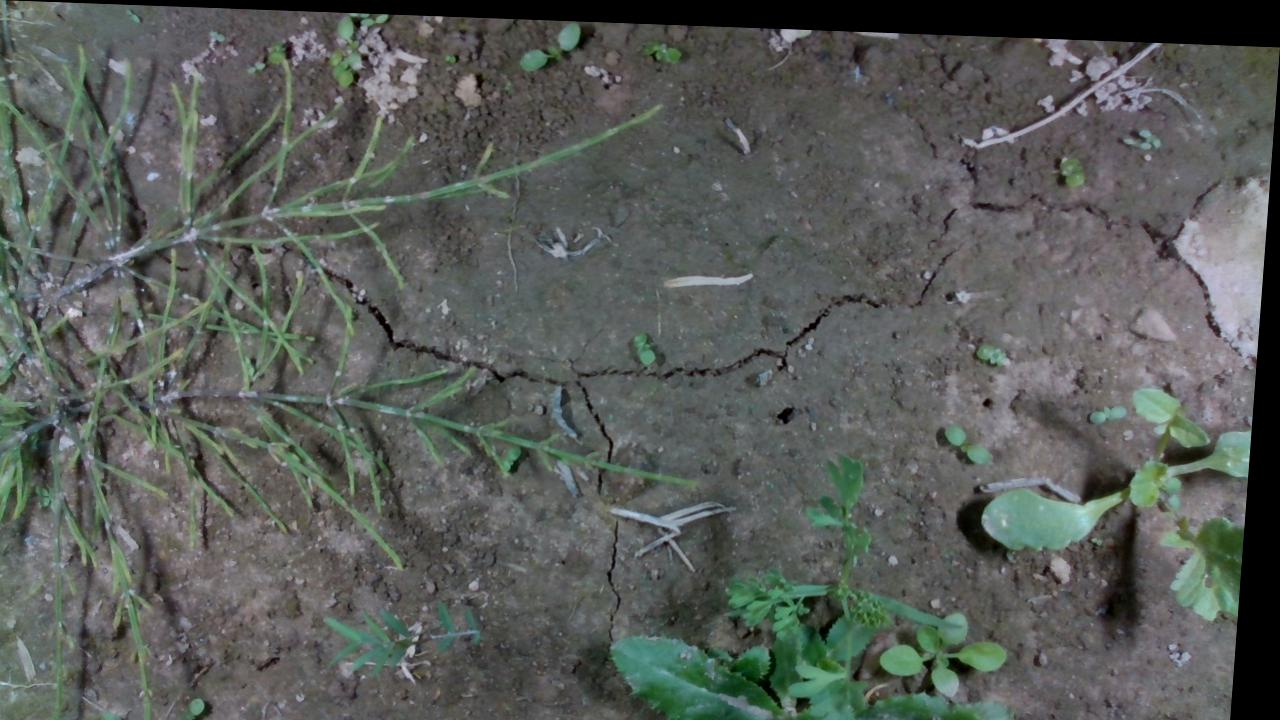weed: (943, 413, 999, 460), (982, 330, 1041, 363), (1055, 142, 1094, 184), (630, 321, 667, 361), (1095, 390, 1134, 423)
